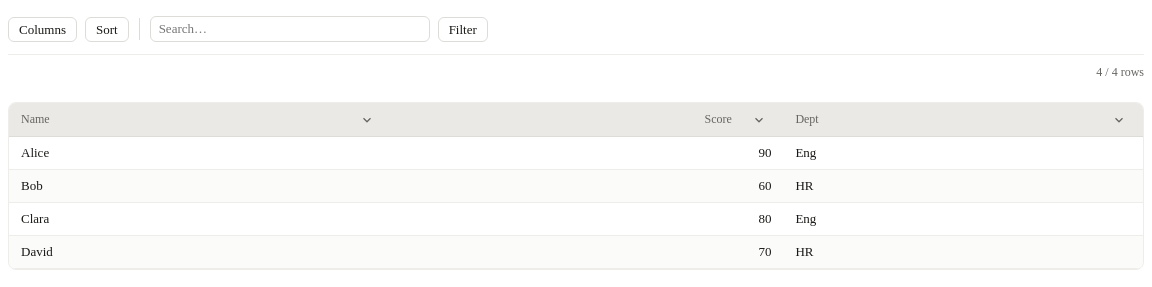
Test case: DataTable — dropdown column search › a collapsed category with a matching column expands while searching, and reverts once cleared
Click the button "Filter": x=463, y=29 [438, 16, 488, 42]
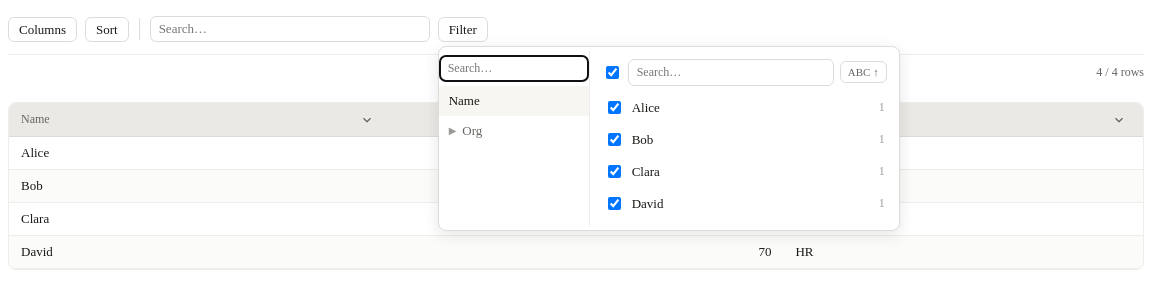
In the 2nd field with placeholder "Search…": x=514, y=68 [439, 54, 589, 82], type "Score"
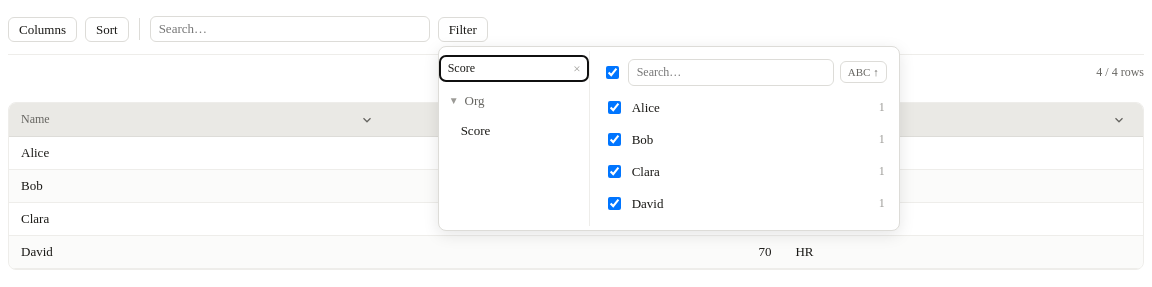
Expected: the button "▼ Org" is expanded, [439, 86, 589, 116]
Clear the 2nd field: x=514, y=68 [439, 54, 589, 82]
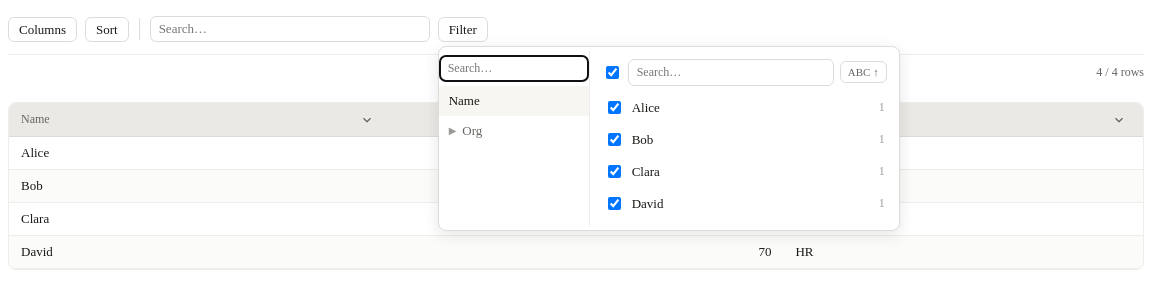
Expected: the button "▶ Org" is collapsed, [439, 116, 589, 146]
